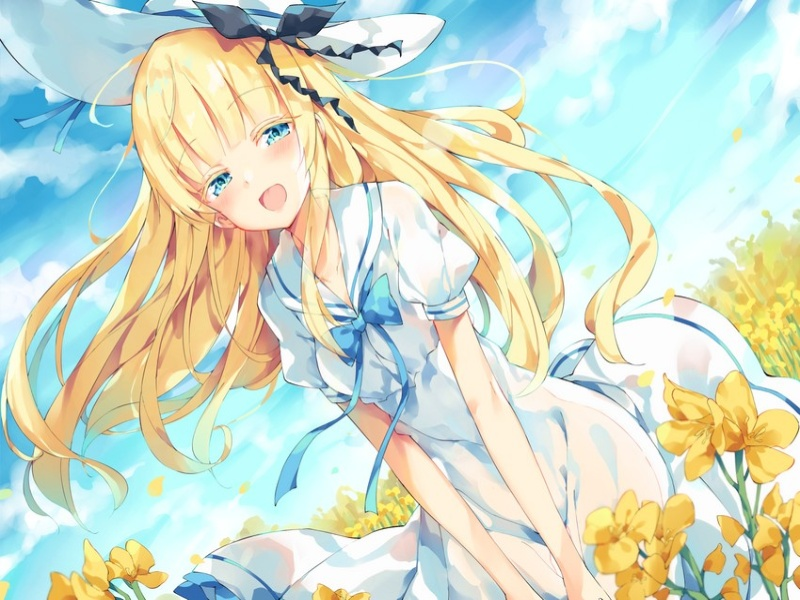flower: (652, 370, 797, 482), (574, 484, 660, 570), (747, 505, 794, 591), (103, 538, 174, 593), (650, 495, 699, 567), (609, 551, 671, 600)
